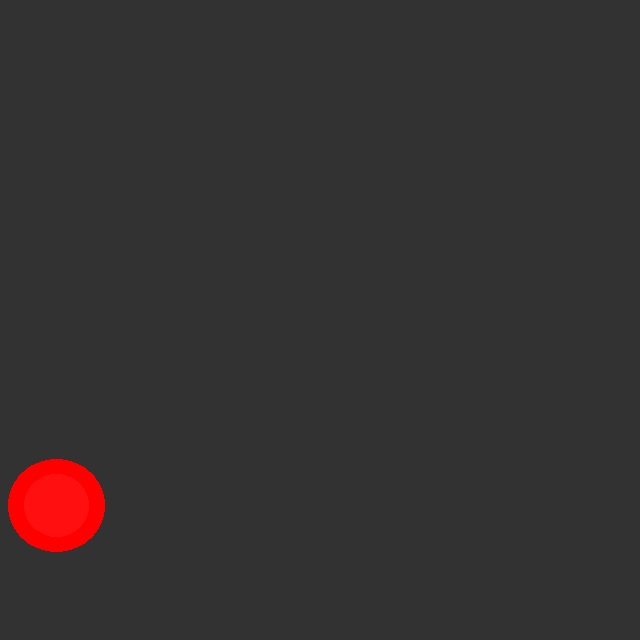fish: (8, 458, 104, 551)
